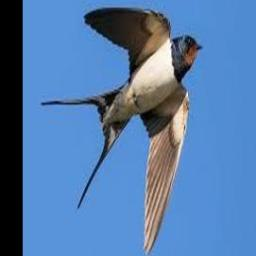Swallow: (41, 8, 202, 255)
